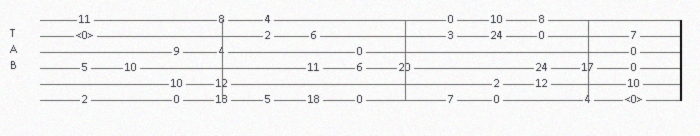0: (174, 94, 184, 106), (357, 94, 367, 106), (357, 46, 367, 58), (448, 14, 458, 26), (494, 94, 504, 106), (539, 30, 549, 42), (631, 46, 641, 58), (631, 62, 641, 74)
10: (125, 62, 141, 74), (171, 78, 187, 90), (491, 14, 507, 26), (628, 78, 644, 90)
11: (79, 14, 95, 26), (308, 62, 324, 74)
12: (216, 78, 232, 90), (536, 78, 552, 90)
17: (582, 62, 598, 74)
18: (216, 94, 232, 106), (308, 94, 324, 106)
2: (82, 94, 92, 106), (265, 30, 275, 42), (494, 78, 504, 90)
20: (399, 62, 415, 74)
24: (491, 30, 507, 42), (536, 62, 552, 74)
3: (448, 30, 458, 42)
4: (219, 46, 229, 58), (265, 14, 275, 26), (585, 94, 595, 106)
5: (82, 62, 92, 74), (265, 94, 275, 106)
6: (311, 30, 321, 42), (357, 62, 367, 74)
7: (448, 94, 458, 106), (631, 30, 641, 42)
8: (219, 14, 229, 26), (539, 14, 549, 26)
9: (174, 46, 184, 58)
harmonic: (76, 30, 98, 42), (625, 94, 647, 106)
